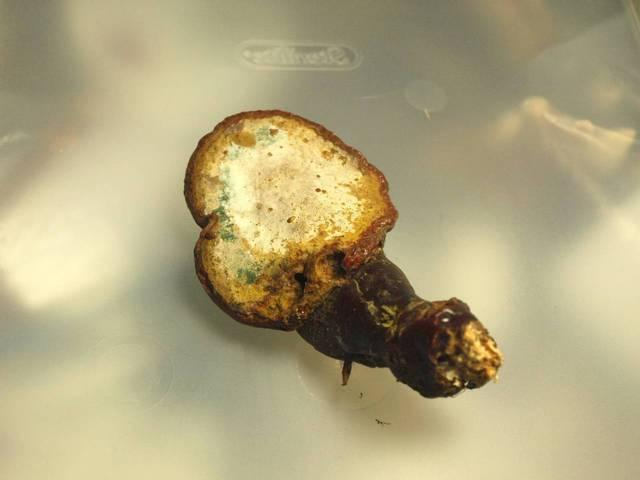poisonous_mushroom: (182, 107, 503, 399)
